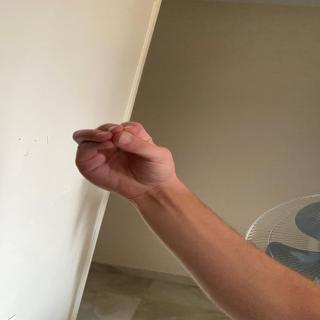HA: (60, 117, 192, 202)
